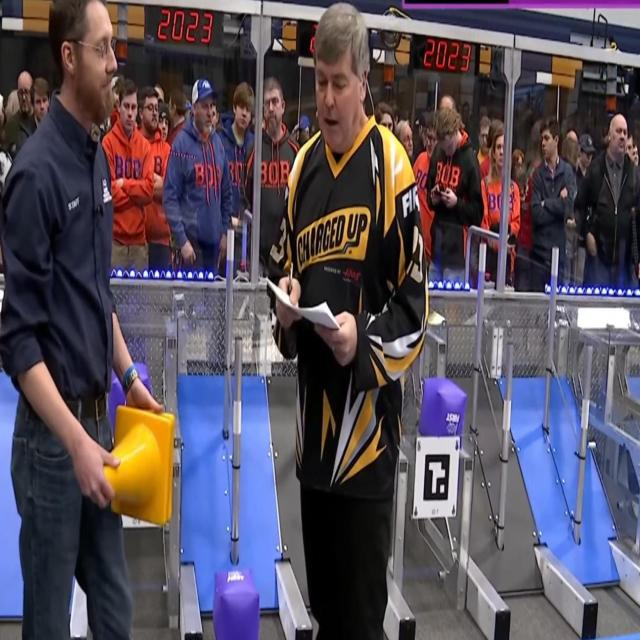frc_cone: (102, 406, 173, 524)
frc_cube: (212, 568, 261, 640), (108, 364, 150, 446), (420, 376, 465, 444)
